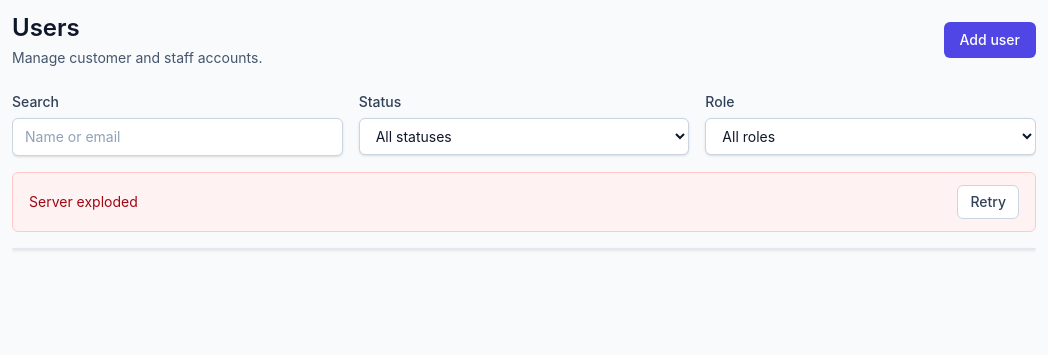
UsersPage › shows the error with a working Retry
The width and height of the screenshot is (1048, 355).
Expected: the text "Server exploded" is shown, [29, 192, 138, 212]
What coordinates should you click on to do the following:
click the button "Retry"
I would click on:
 (988, 202)
Its box is [957, 185, 1019, 219].
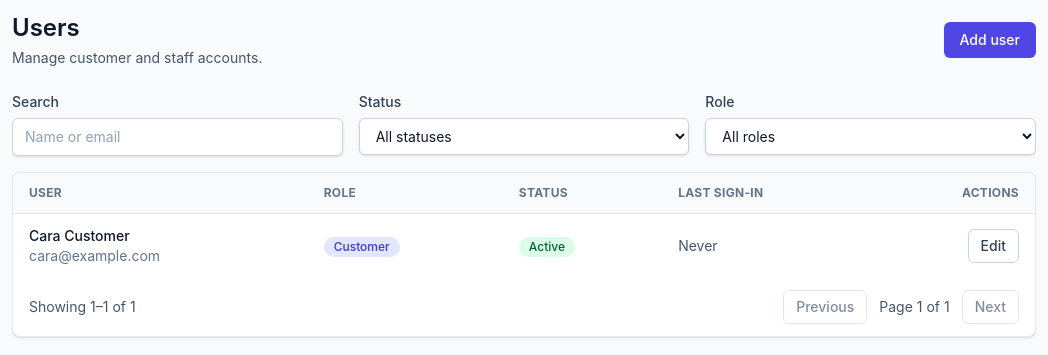
Result: the text "cara@example.com" is shown at [29, 247, 160, 264]
Result: the text "Server exploded" is gone
